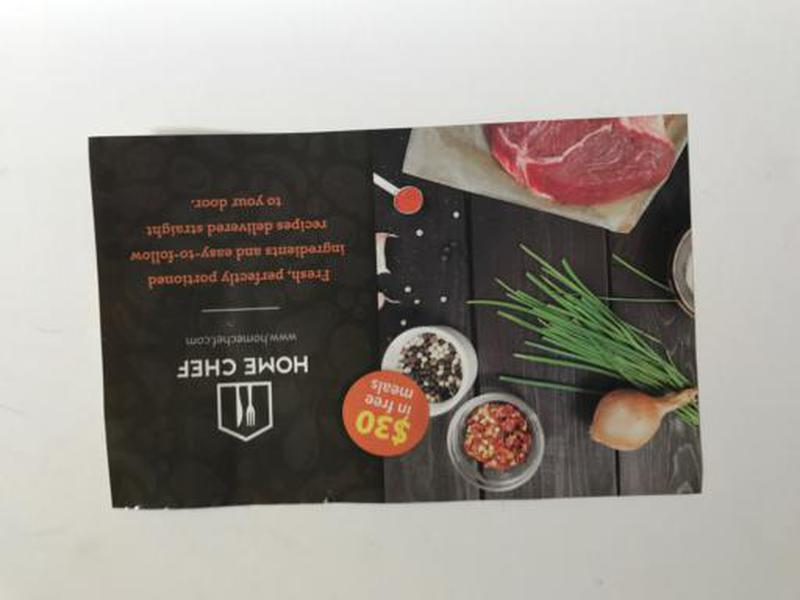paper: (78, 112, 709, 514)
